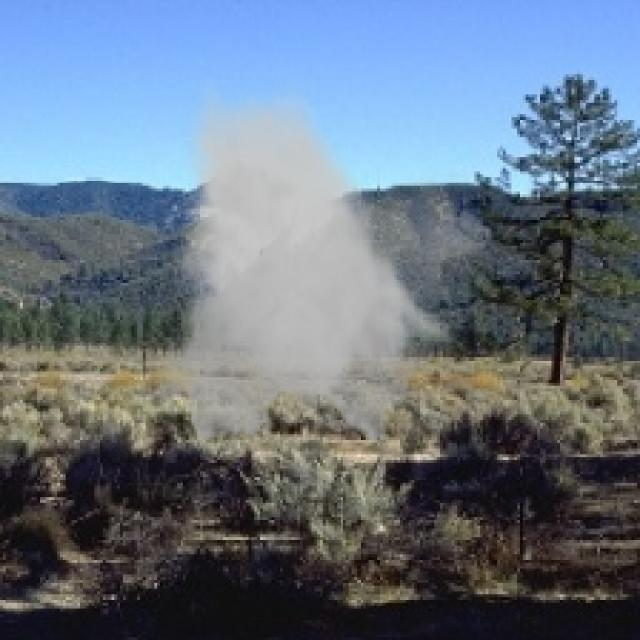Smoke: (146, 77, 494, 452)
